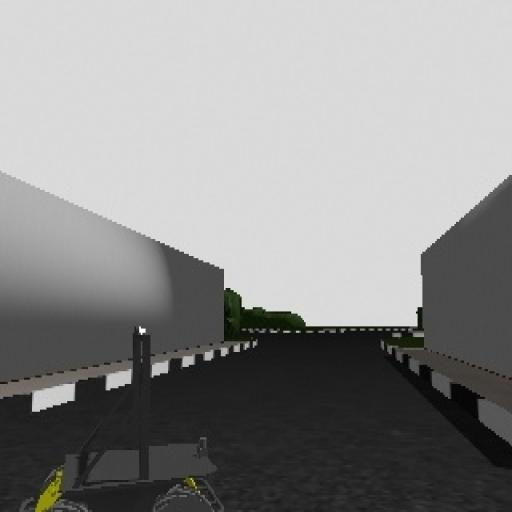huskya200: (14, 315, 246, 512)
